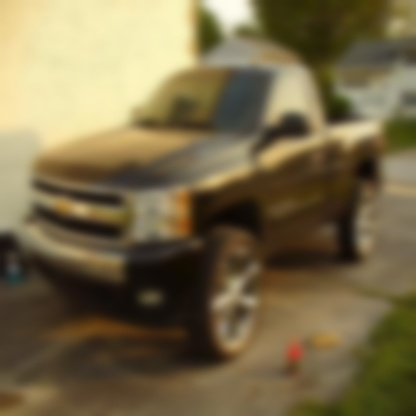Vehicle: (23, 57, 386, 364)
